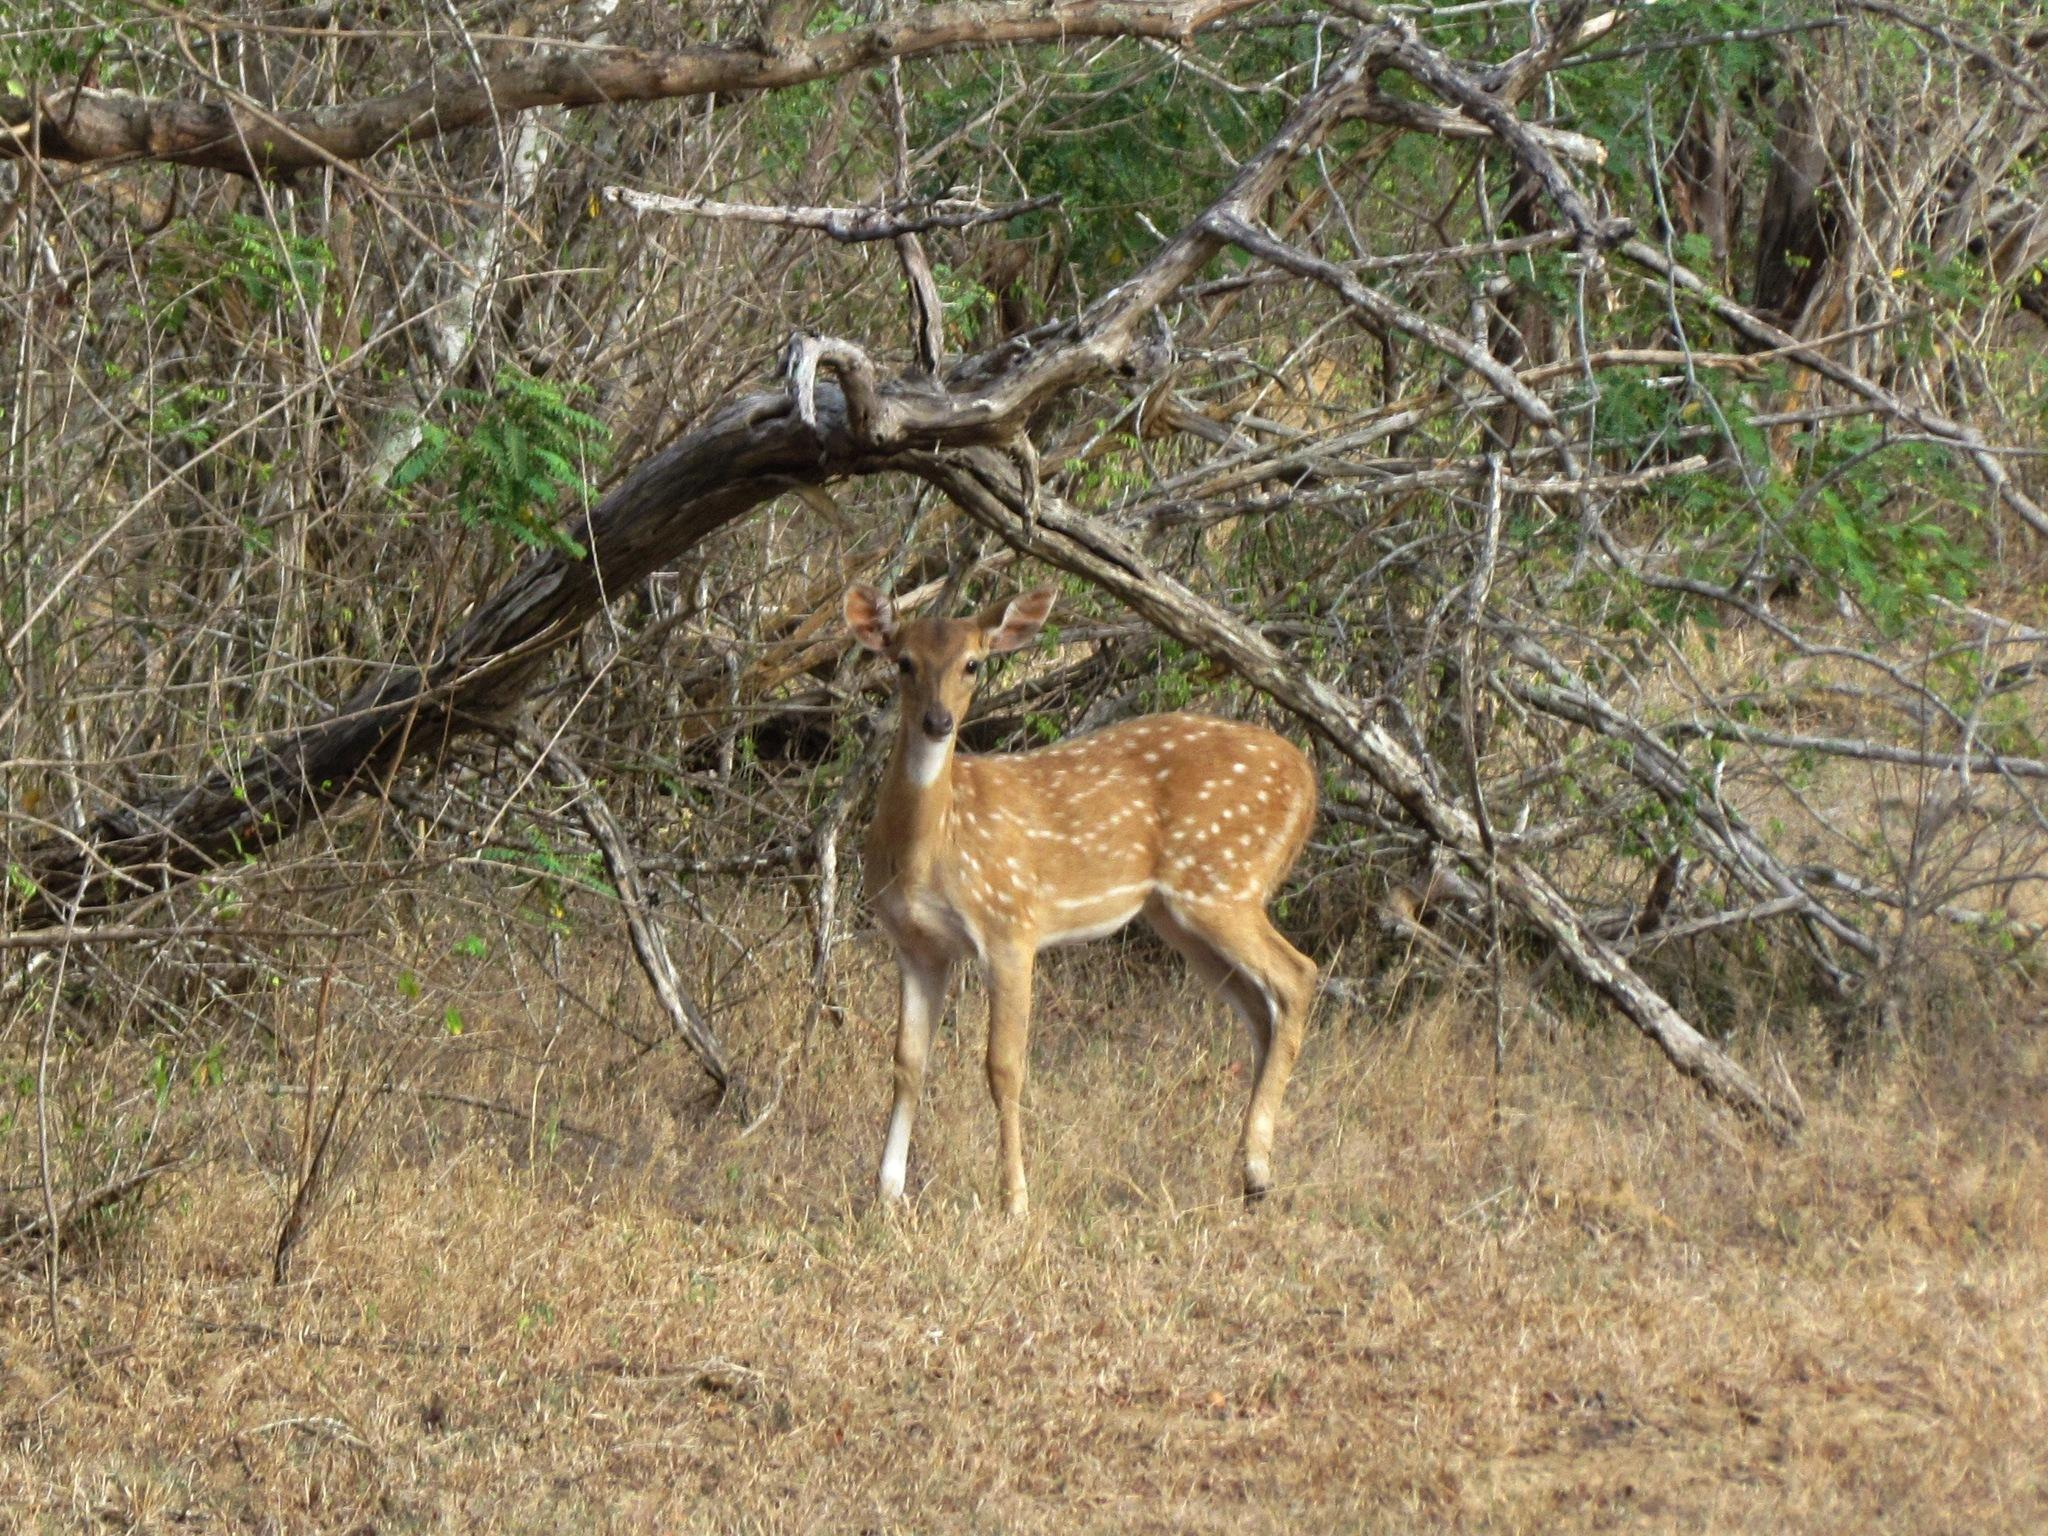Deer: (848, 587, 1317, 1213)
